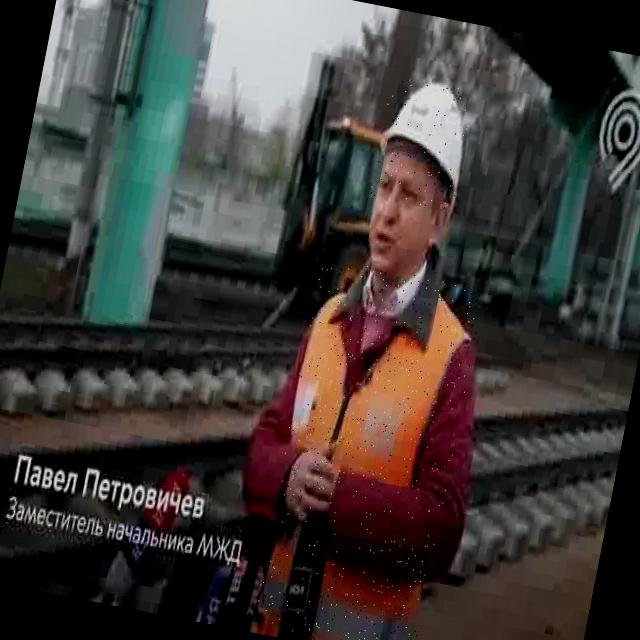helmet: (369, 73, 477, 212)
vest: (249, 257, 484, 640)
